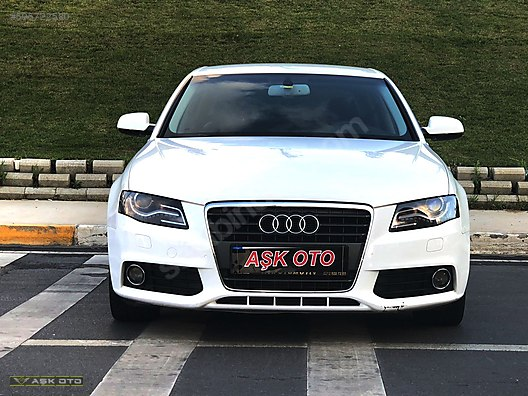audi: (254, 212, 324, 241)
